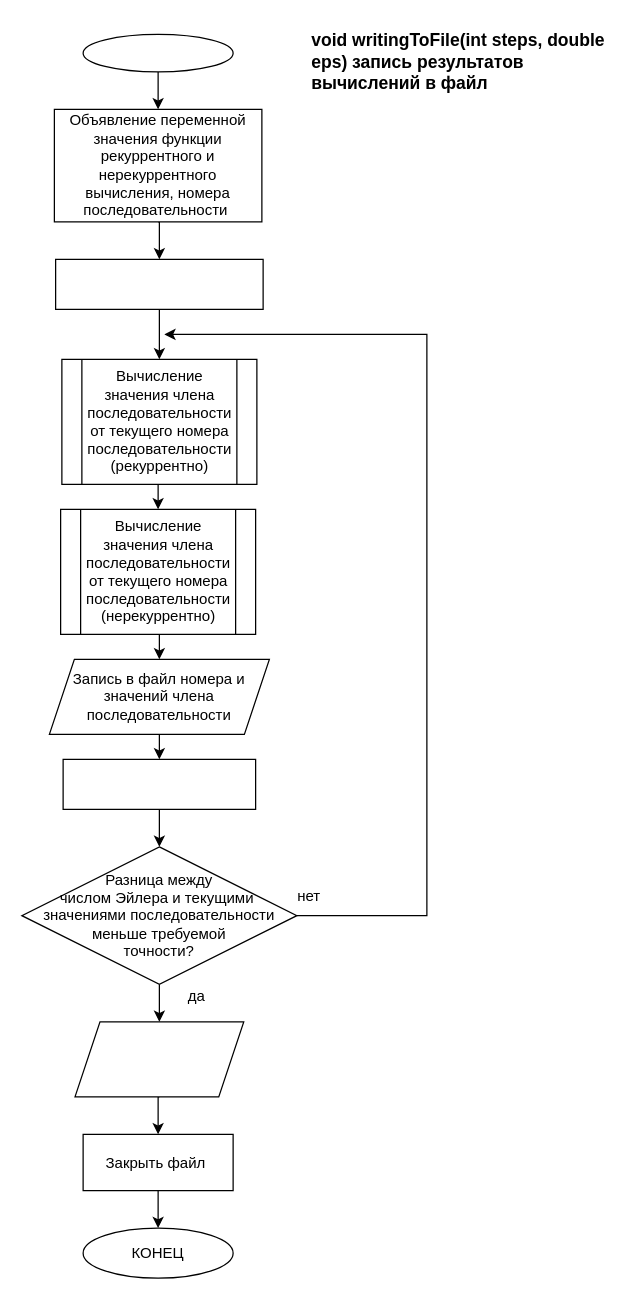
Image size: 631x1300. Some labels were removed from this diagram. The box of each missing label's shape, as (x1, y1, x2, y2) in pixels:
Запись точного значения е в файл: (74, 1021, 244, 1097)
НАЧАЛО: (82, 33, 233, 72)
Открытие файла на запись: (54, 258, 263, 309)
Увеличение номера последовательности: (62, 758, 256, 809)
